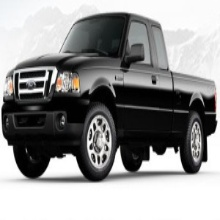no damage: (1, 13, 217, 182)
